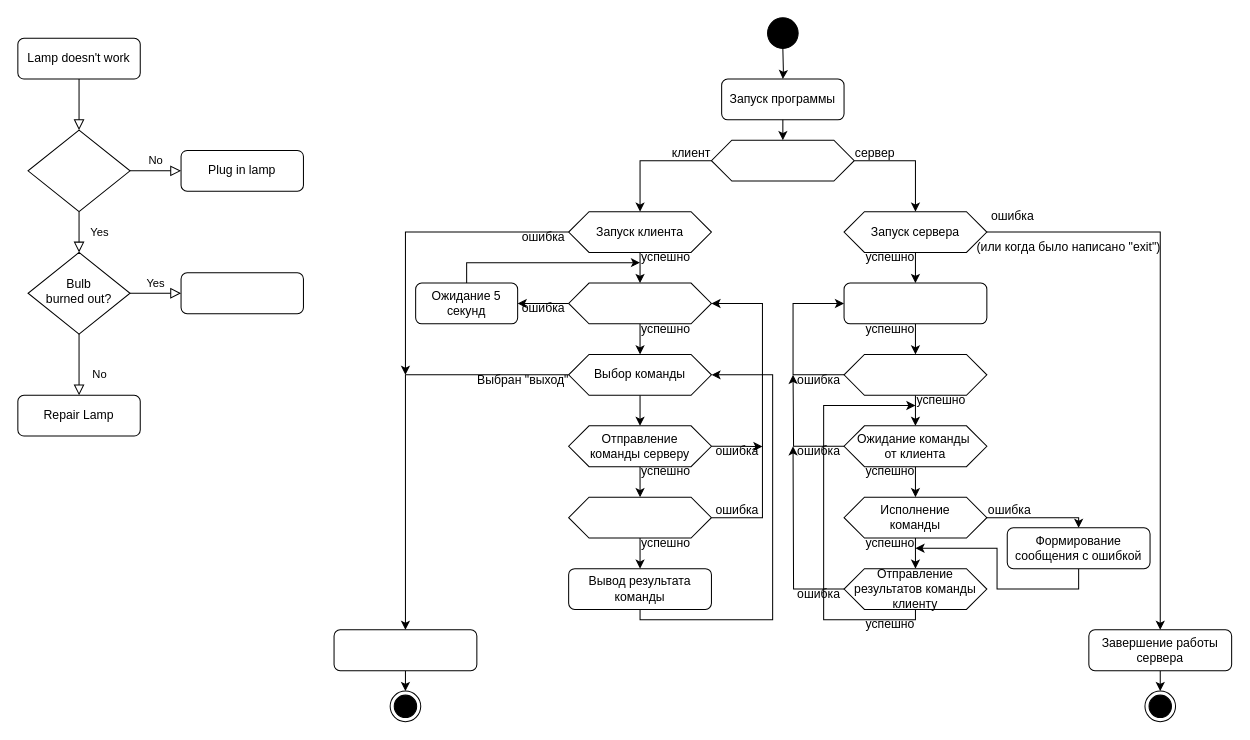
The diagram is 1250 pixels wide and 740 high, and some of its shapes have lost their labels. Here are the shapes that lost their labels. From the top down, the box of each, then its label:
(27, 129, 130, 212): Lamp plugged in?
(710, 139, 854, 181): Выбор между клиентом и серевром
(180, 272, 303, 314): Replace Bulb
(568, 282, 711, 324): Подключение к серверу
(843, 282, 987, 324): Ожидание подключения клиента
(843, 353, 987, 395): Подключение к клиенту
(568, 496, 711, 538): Получение ответа от сервера
(333, 629, 477, 671): Завершение работы клиента
